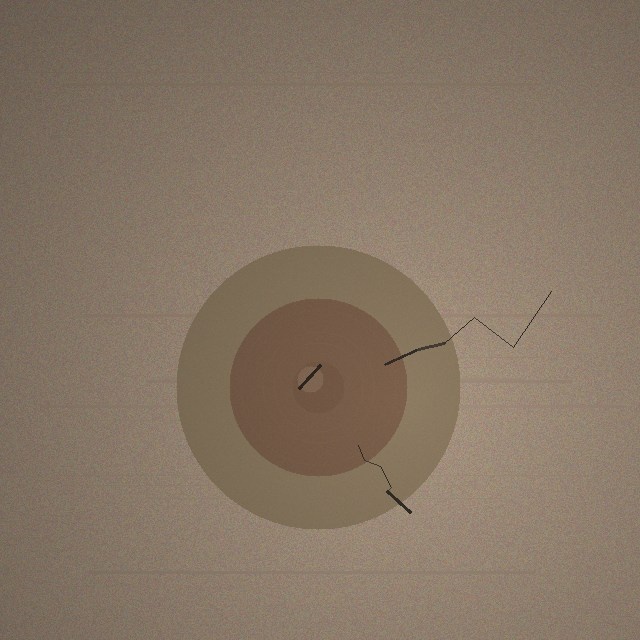crack: (176, 245, 460, 529)
